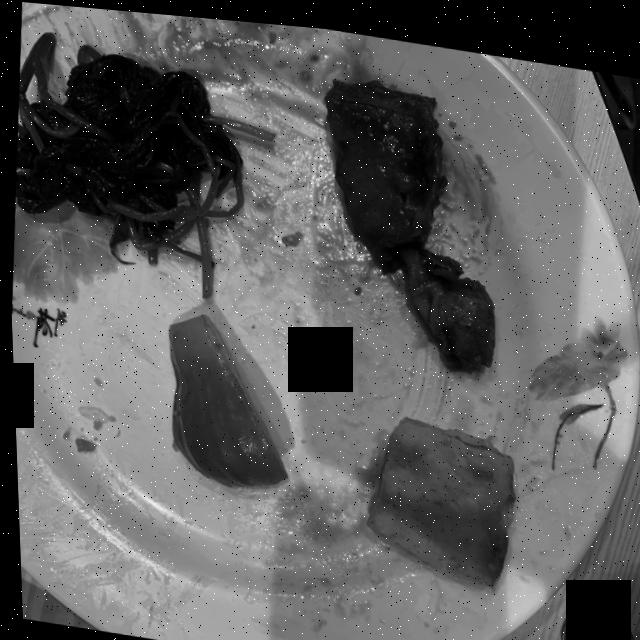coin: (556, 593, 629, 640)
creamy tofu: (324, 74, 493, 361)
creamy tofu -without sauce-: (364, 410, 511, 577)
sweet potato leaves: (14, 31, 273, 293)
